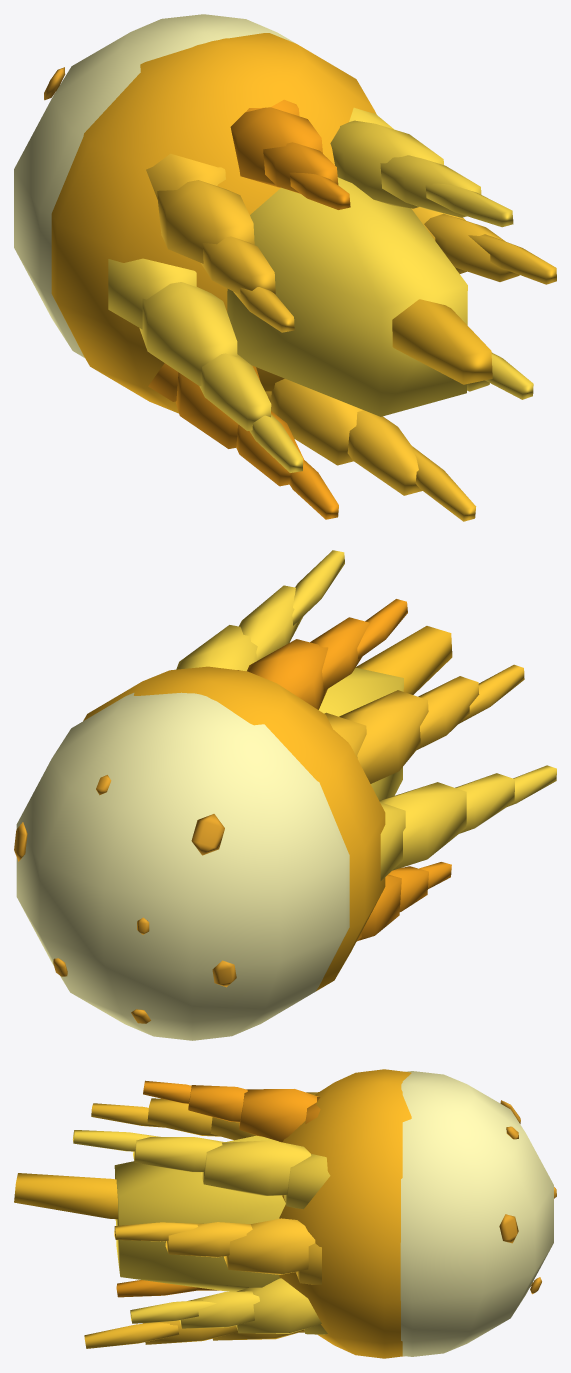
File: Meteorite-L1.glb
The picture shows the model from 3 angles, top to bottom: view 1: azimuth 30°, elevation 25°; view 2: azimuth 150°, elevation 25°; view 3: azimuth 270°, elevation 25°; orthographic projection. The views are drawn at different scales.
Visible parts, largest first — view 1: FlameShell, HotCore; view 2: HotCore, FlameShell; view 3: HotCore, FlameShell.
Part boxes in pixels (<box>): FlameShell: <box>108,99,556,521</box>; HotCore: <box>14,14,376,413</box>; HotCore: <box>14,666,385,1040</box>; FlameShell: <box>176,550,556,941</box>; HotCore: <box>279,1069,556,1358</box>; FlameShell: <box>14,1080,330,1348</box>.
Size of the model in its own units: 0.6797 by 0.6972 by 1.31.
Materials: 1 (1 with a texture image).
